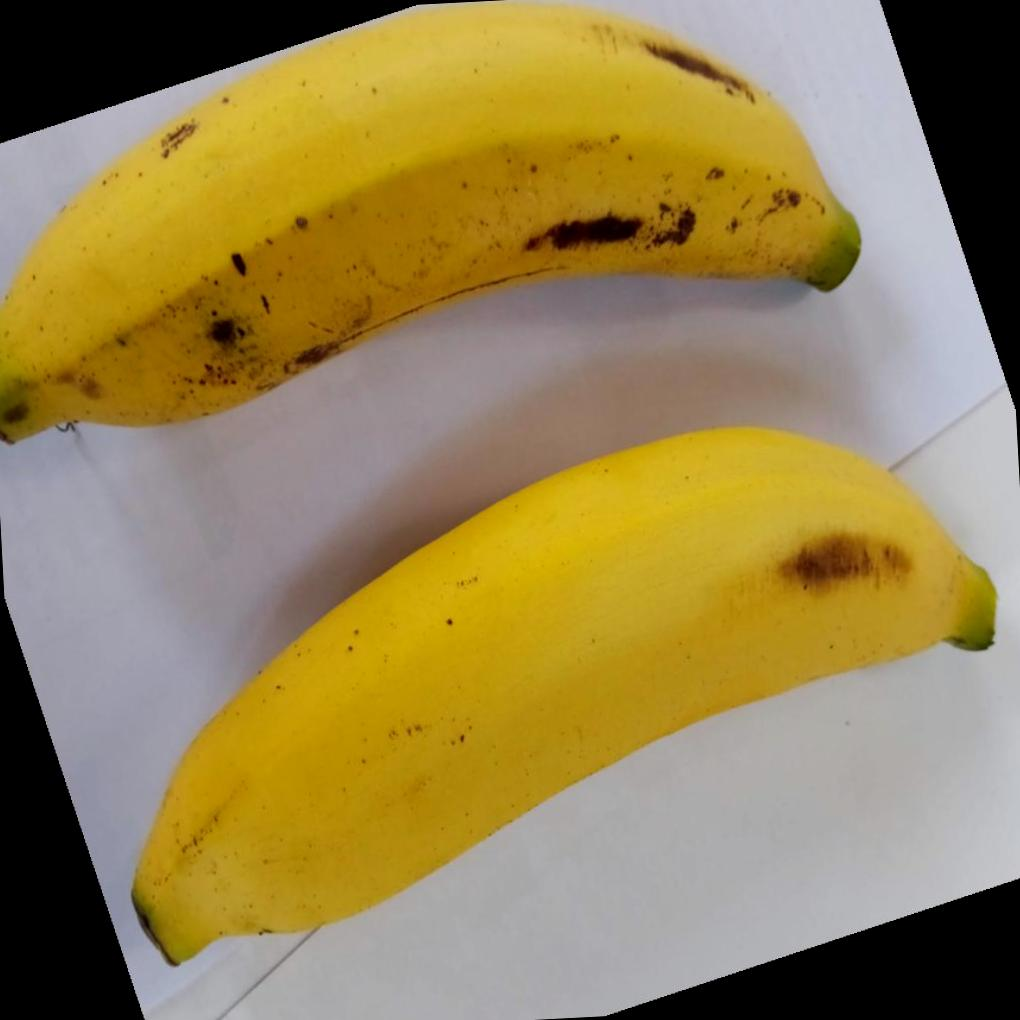Banana Ripe: (97, 401, 1020, 1020), (0, 0, 1012, 559)
